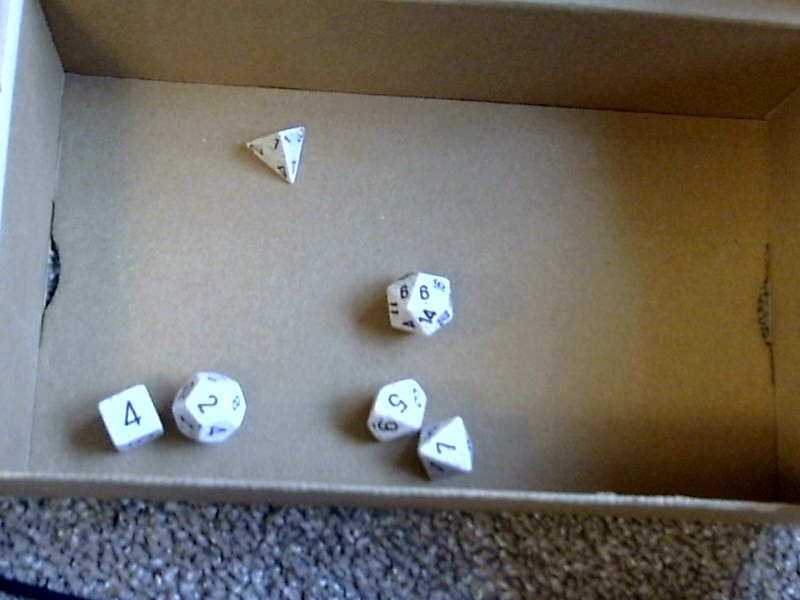d10 5: (364, 374, 425, 441)
d12 2: (170, 366, 250, 449)
d20 6: (378, 260, 461, 342)
d4 1: (240, 121, 312, 190)
d6 4: (89, 379, 166, 458)
d8 7: (417, 415, 476, 490)
